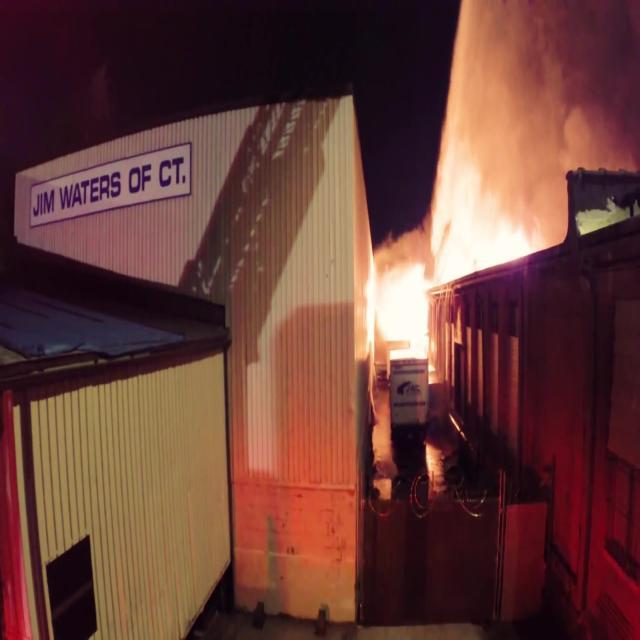Fire: (368, 134, 586, 376)
Smoke: (460, 0, 640, 130)
